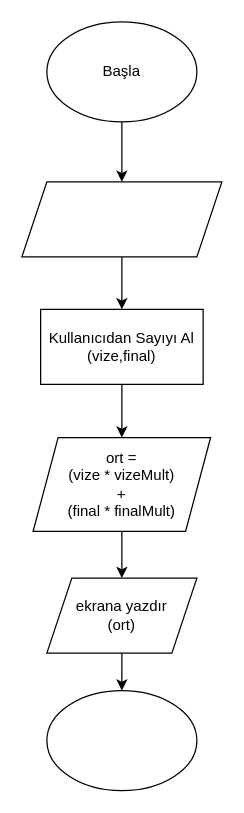
Some shapes in this 244 by 813 pixel diagram are drawn without their labels. Each missing label, with the centre of its shape:
"Bitir" belongs at [121,740].
"Tanımla (vize, final,ort vizeMult, finalMult)" belongs at [121,219].
